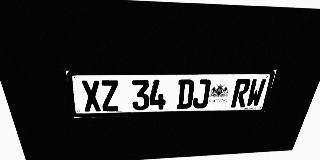3: (132, 80, 149, 110)
4: (149, 80, 167, 110)
D: (176, 79, 195, 109)
J: (192, 79, 211, 109)
R: (231, 79, 251, 107)
W: (245, 79, 267, 107)
X: (80, 80, 102, 112)
Z: (100, 80, 119, 111)
